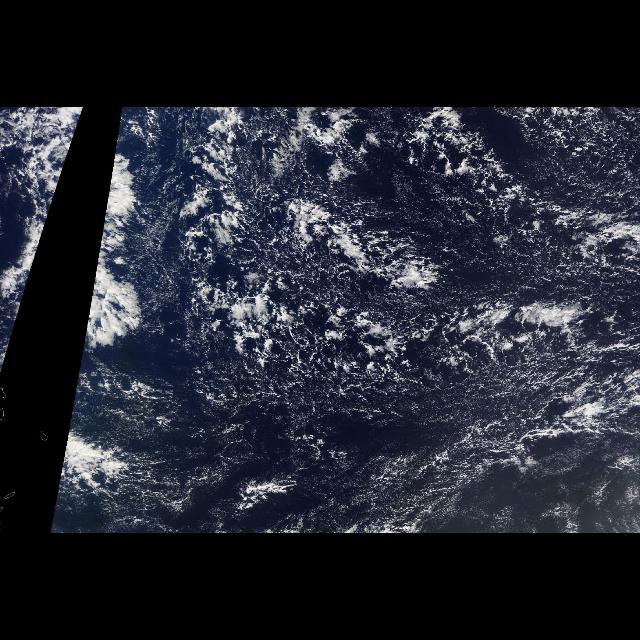Gravel: (144, 110, 632, 528)
Sugar: (195, 348, 640, 532), (146, 160, 378, 342), (532, 114, 640, 216)
